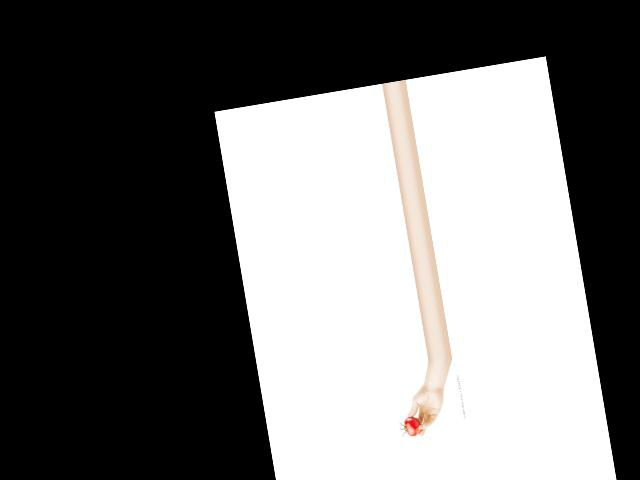tomato: (403, 414, 423, 437)
